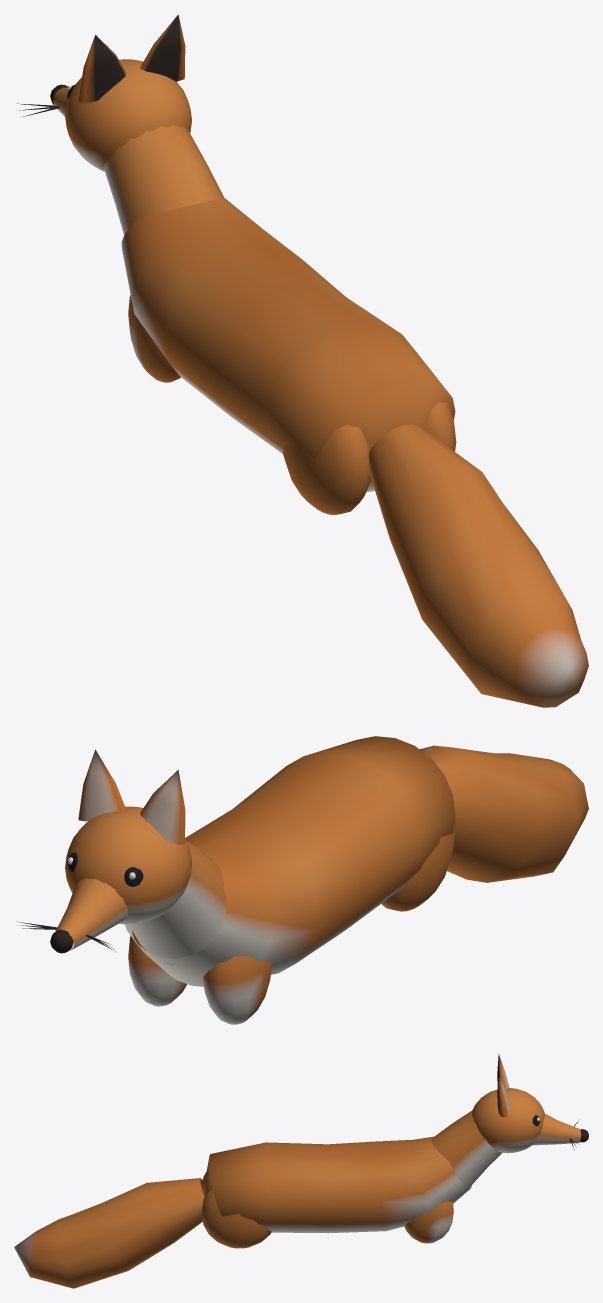
The model's file is Kitsune.fbx.
3 renders of one model, top to bottom at view 1: azimuth 30°, elevation 25°; view 2: azimuth 150°, elevation 25°; view 3: azimuth 270°, elevation 25°, orthographic. The views are drawn at different scales.
Parts seen in each view (by area): view 1: Kitsune; view 2: Kitsune; view 3: Kitsune.
Part boxes in pixels (box(x1,y1,x2,y2)): Kitsune: box(17, 14, 588, 707); Kitsune: box(16, 736, 588, 1024); Kitsune: box(14, 1054, 588, 1288).
Bounding box in the file's own units: 7.32 × 18.17 × 42.83.
